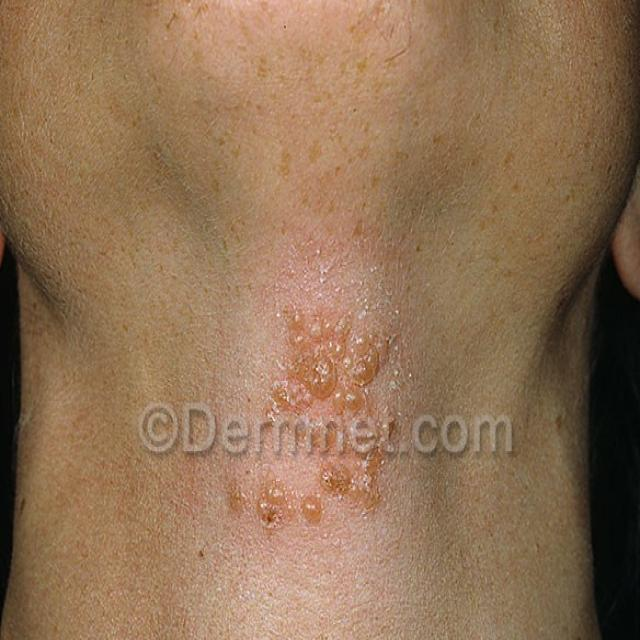Viral Infections: (220, 258, 419, 566)
